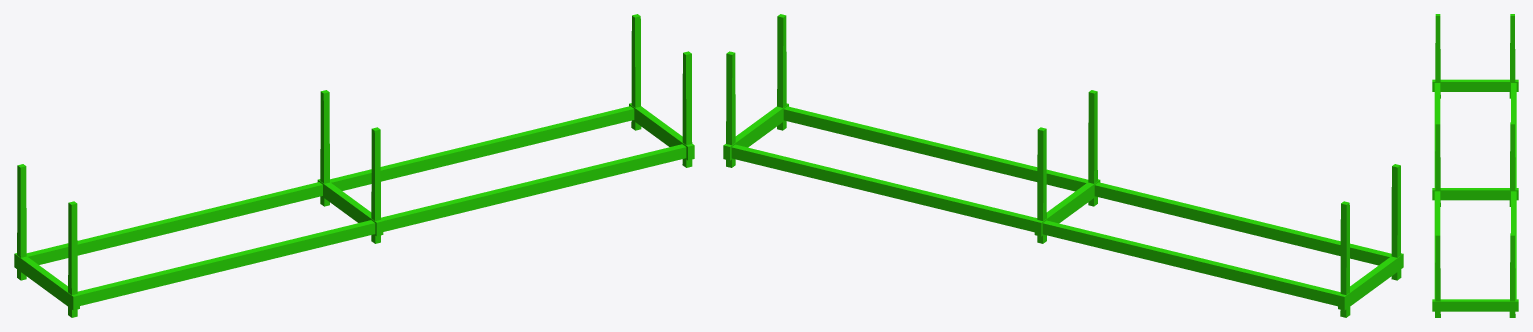
File: Factory_Shelf_01_Lod0.fbx
3 renders of one model, left to right at view 1: azimuth 30°, elevation 25°; view 2: azimuth 150°, elevation 25°; view 3: azimuth 270°, elevation 25°, orthographic. The views are drawn at different scales.
Parts seen in each view (by area): view 1: Factory_Shelf_01_Lod0; view 2: Factory_Shelf_01_Lod0; view 3: Factory_Shelf_01_Lod0.
Boxes of the visible parts, x1,y1,x2,y2 form: Factory_Shelf_01_Lod0: [14, 14, 694, 317]; Factory_Shelf_01_Lod0: [723, 14, 1403, 317]; Factory_Shelf_01_Lod0: [1432, 14, 1518, 317].
Size of the model in its own units: 459 by 79.52 by 75.36.
